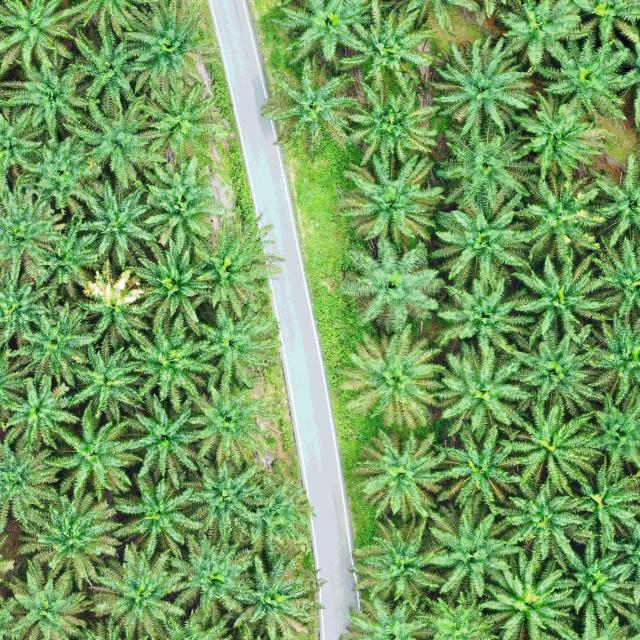Tree: (335, 318, 449, 431), (9, 486, 123, 597), (255, 48, 365, 159), (428, 34, 538, 144), (57, 88, 174, 191), (186, 203, 288, 320), (431, 114, 543, 220), (500, 88, 610, 193), (427, 332, 535, 435), (77, 538, 186, 640), (124, 0, 228, 105), (497, 398, 601, 501), (342, 148, 448, 249), (430, 184, 531, 290), (507, 252, 609, 356), (332, 0, 439, 99), (511, 168, 617, 267), (118, 311, 220, 413), (349, 514, 451, 615), (35, 407, 137, 508), (529, 31, 637, 125), (335, 237, 444, 330), (0, 183, 78, 311), (503, 325, 610, 417), (495, 473, 594, 572), (351, 424, 448, 524), (340, 71, 445, 163), (543, 535, 637, 637), (135, 153, 227, 257), (424, 508, 525, 602), (2, 298, 100, 394), (224, 547, 325, 640), (0, 47, 102, 139), (428, 270, 537, 356), (164, 526, 257, 624), (61, 18, 151, 117), (67, 176, 156, 273), (125, 237, 213, 335), (185, 374, 271, 474), (11, 124, 106, 214), (139, 74, 223, 174), (119, 390, 203, 490), (194, 297, 276, 398), (480, 559, 572, 640), (437, 427, 522, 512), (182, 457, 265, 544), (0, 367, 81, 456), (110, 474, 198, 555), (566, 457, 640, 549), (0, 568, 94, 640), (67, 340, 146, 422), (0, 0, 78, 73)
